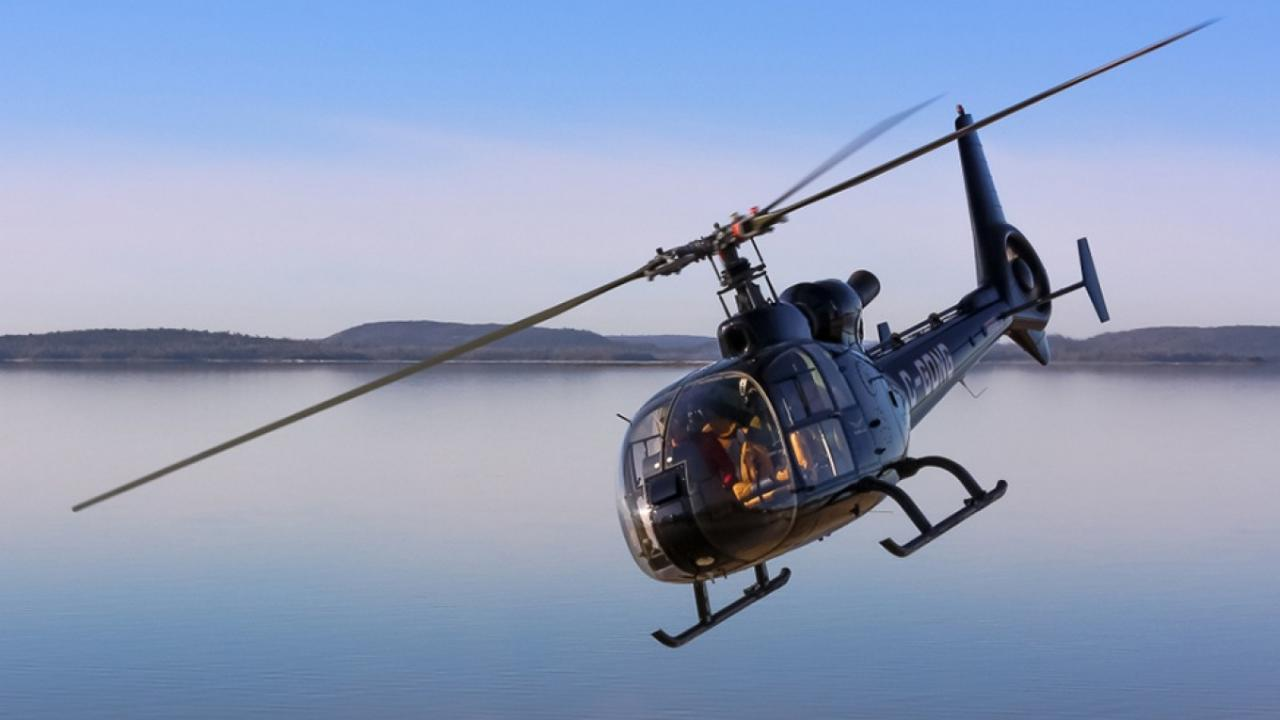Helicopter: (58, 4, 1245, 668)
